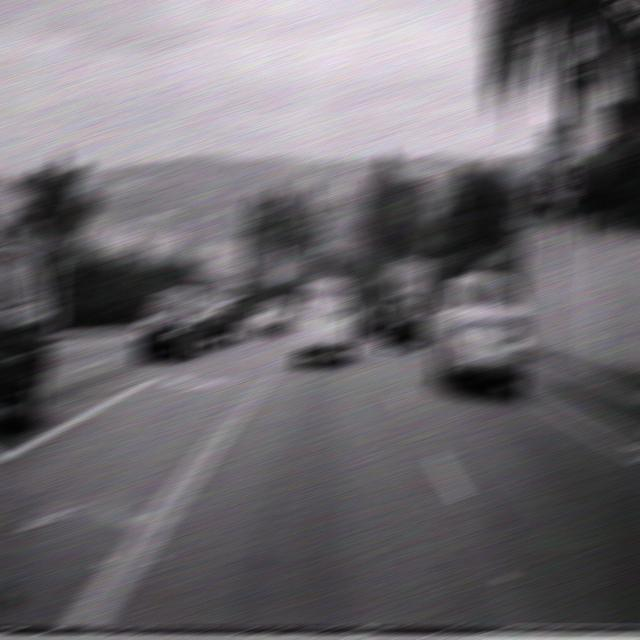speedLimit35: (540, 128, 580, 202)
